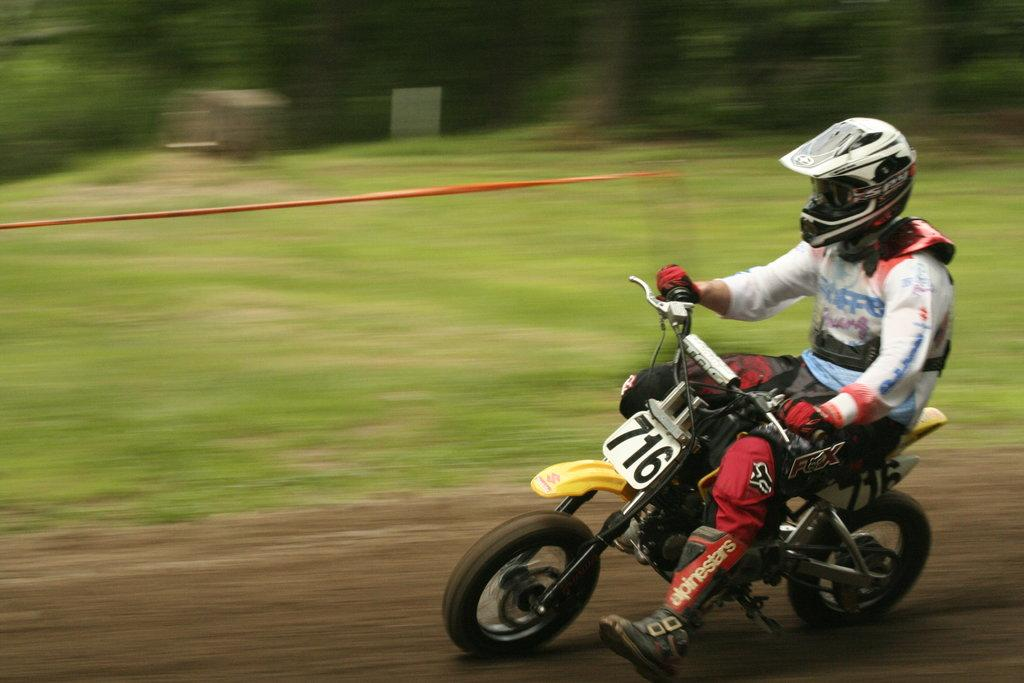helmet: (777, 117, 917, 248)
